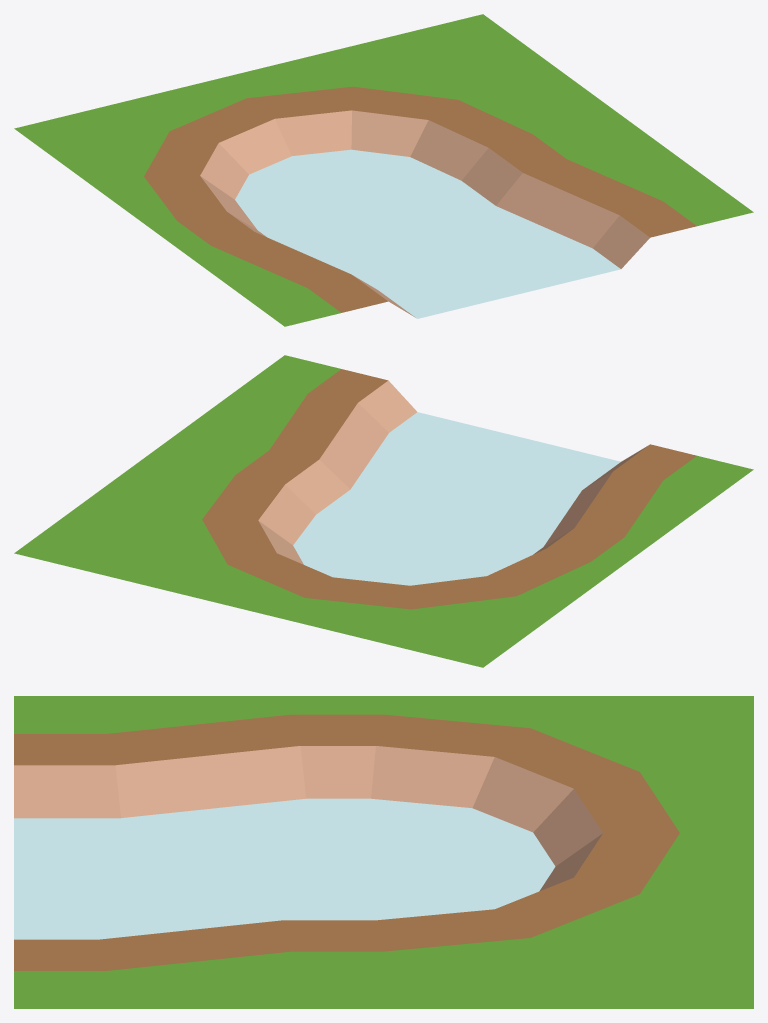
File: ground_riverEndClosed.glb
3 views of the same model, one above another, from view 1: azimuth 30°, elevation 25°; view 2: azimuth 150°, elevation 25°; view 3: azimuth 270°, elevation 25° (orthographic). The views are drawn at different scales.
Visible parts, largest first — view 1: ground_riverEndClosed; view 2: ground_riverEndClosed; view 3: ground_riverEndClosed.
Part boxes in pixels (bbox=[...]): ground_riverEndClosed: bbox=[14, 14, 753, 326]; ground_riverEndClosed: bbox=[14, 355, 753, 667]; ground_riverEndClosed: bbox=[14, 696, 753, 1008].
Size of the model in its own units: 1 by 0.05 by 1.
